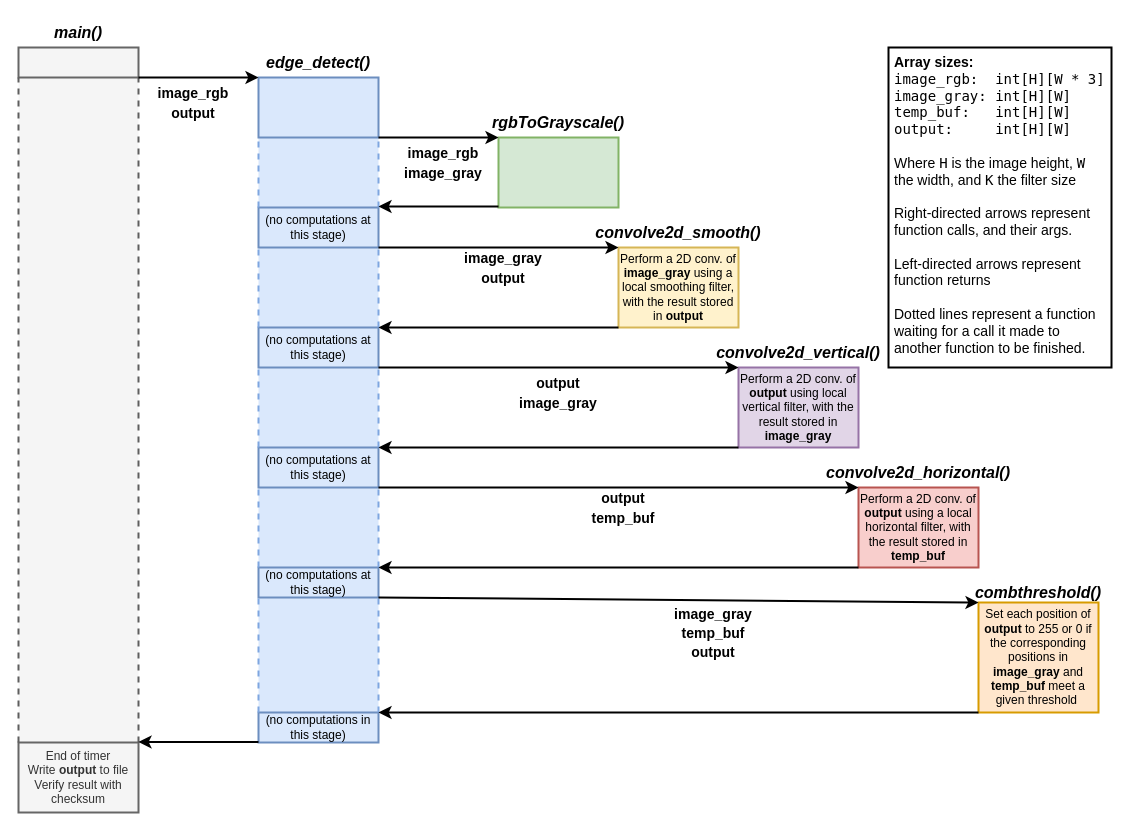
Image size: 1129x830. Some labels were removed from this diagram. Each missing label, with the centre of its shape:
"Convert image_rgb into image_gray" belongs at (x=558, y=172).
"Creation of image_gray and temp_buf" belongs at (x=318, y=107).
"Data input Start of timer" belongs at (x=78, y=62).
